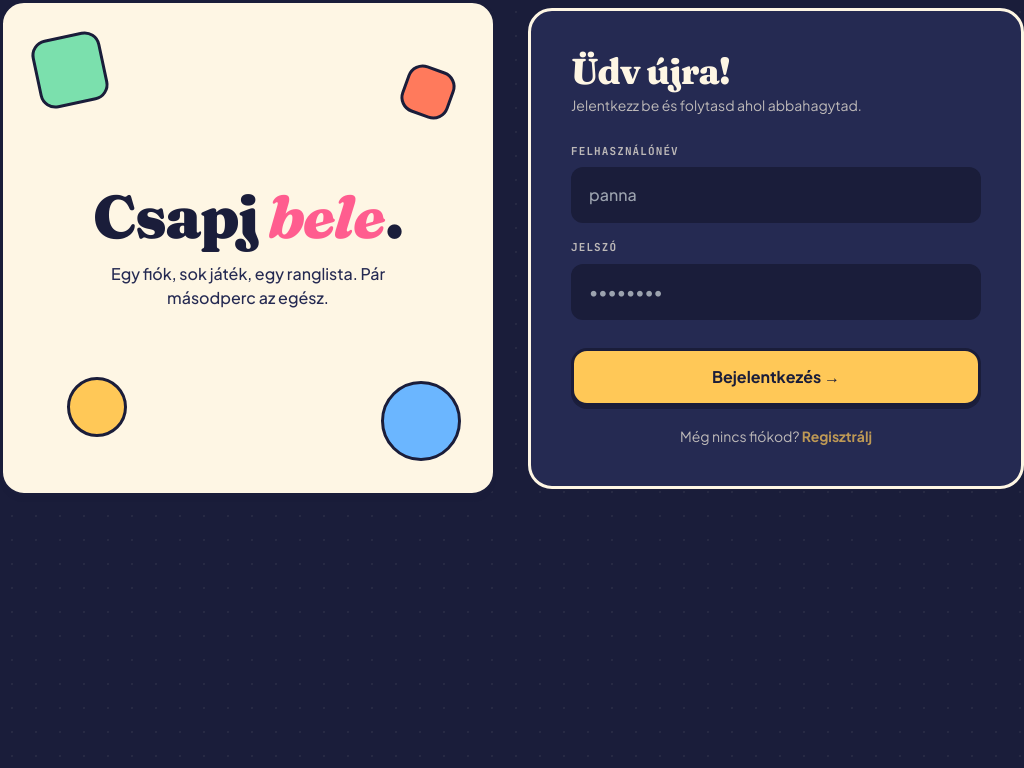
Scenario: LoginPage › shows validation errors when submitting an empty form
Click the button "Bejelentkezés →". click: (776, 376)
box: [571,348,981,406]
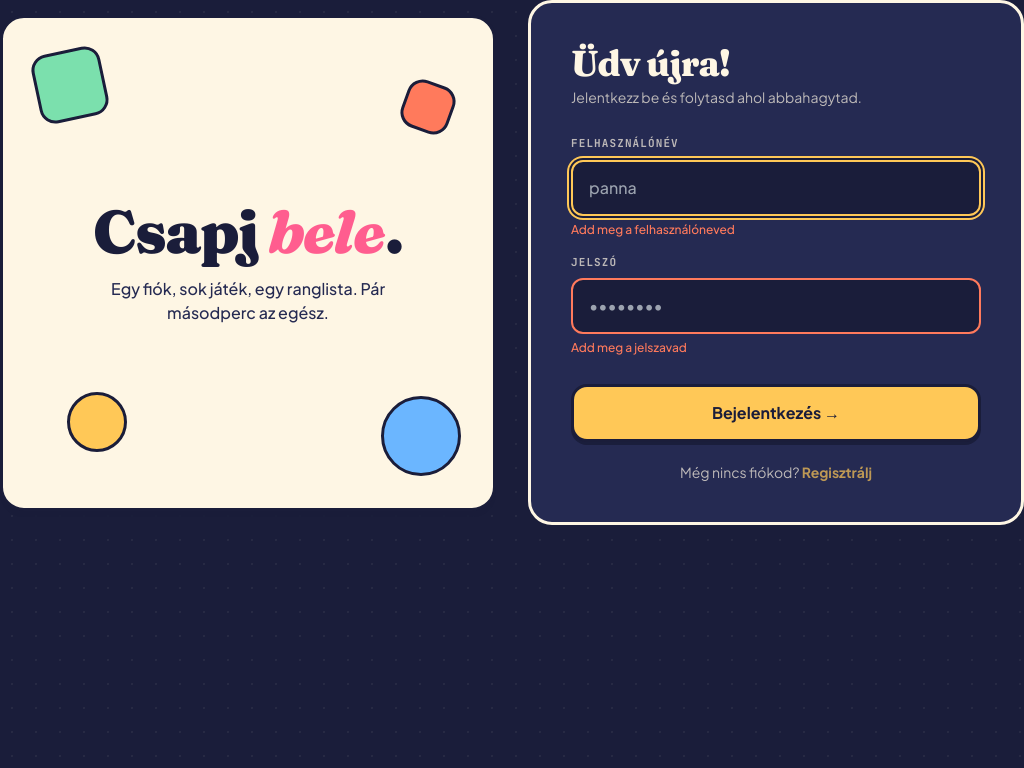
Check: the text "Add meg a felhasználóneved" is shown, box [571,222,735,236]
Check: the text "Add meg a jelszavad" is shown, box [571,340,687,355]
